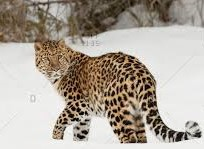amur_leopard: (21, 35, 169, 145)
